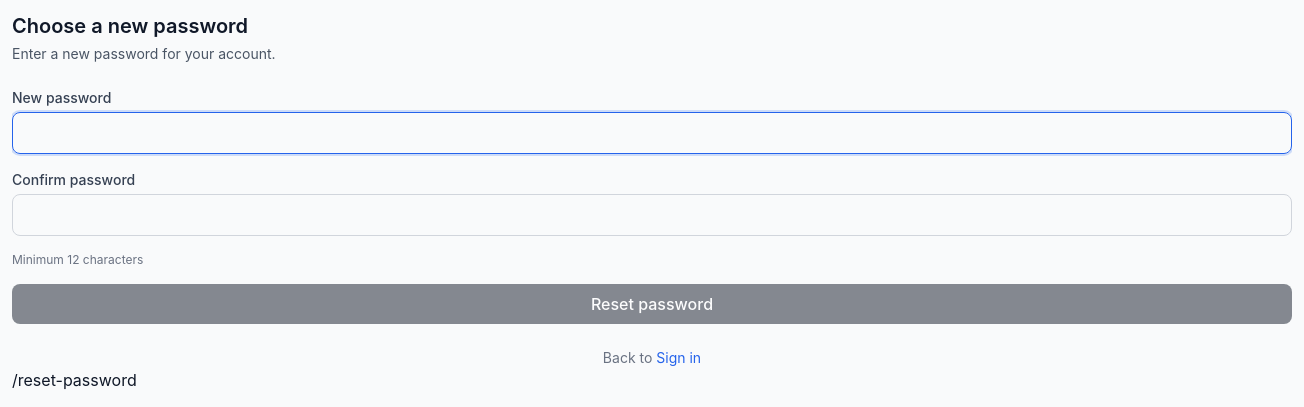
ResetPassword › clears the captured token after a successful reset and keeps a terminal confirmation view
The image size is (1304, 407).
Type "Password123!" into the password field labelled "New password".
click(652, 133); type("Password123!")  # box [12,112,1292,154]
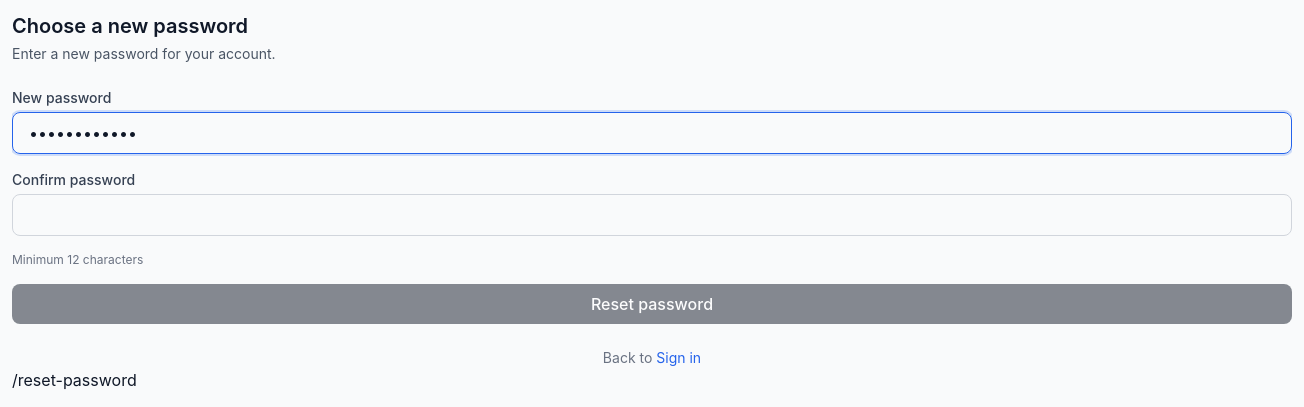
Type "Password123!" into the password field labelled "Confirm password".
click(652, 215); type("Password123!")  # box [12,194,1292,236]
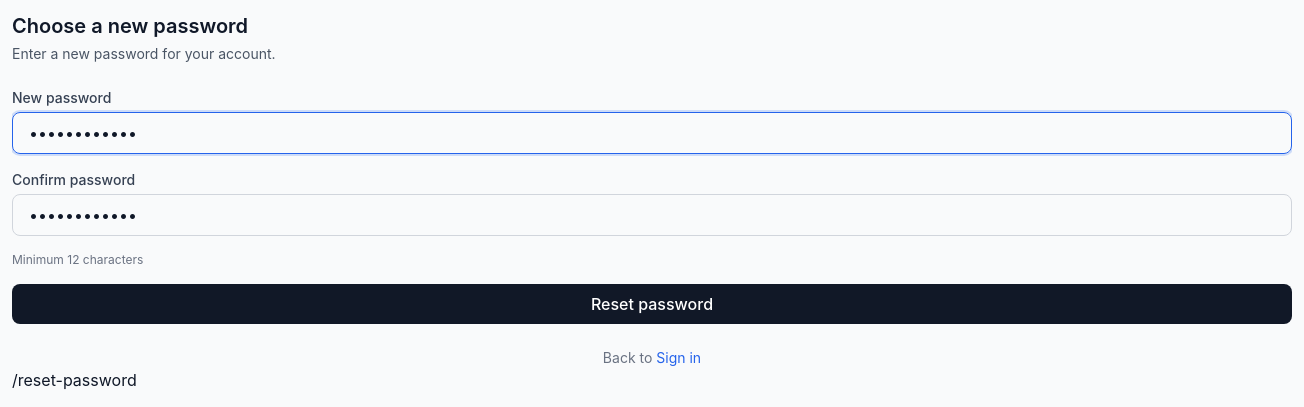
Click the button "Reset password".
click(652, 304)  # box [12,284,1292,324]
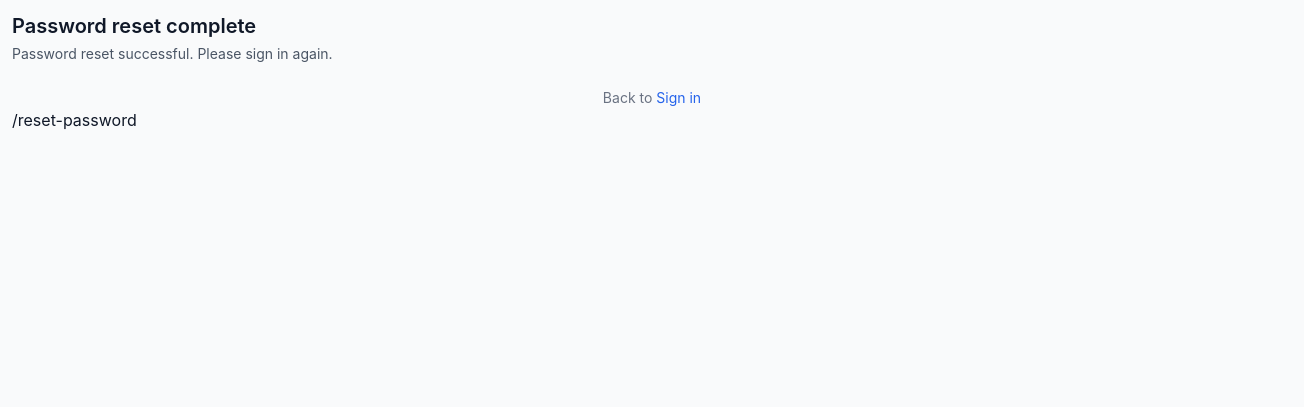
Result: the heading "Password reset complete" is shown at [12,14,256,38]
Result: the text "Password reset successful. Please sign in again." is shown at [12,45,333,62]
Result: the button "Reset password" is gone
